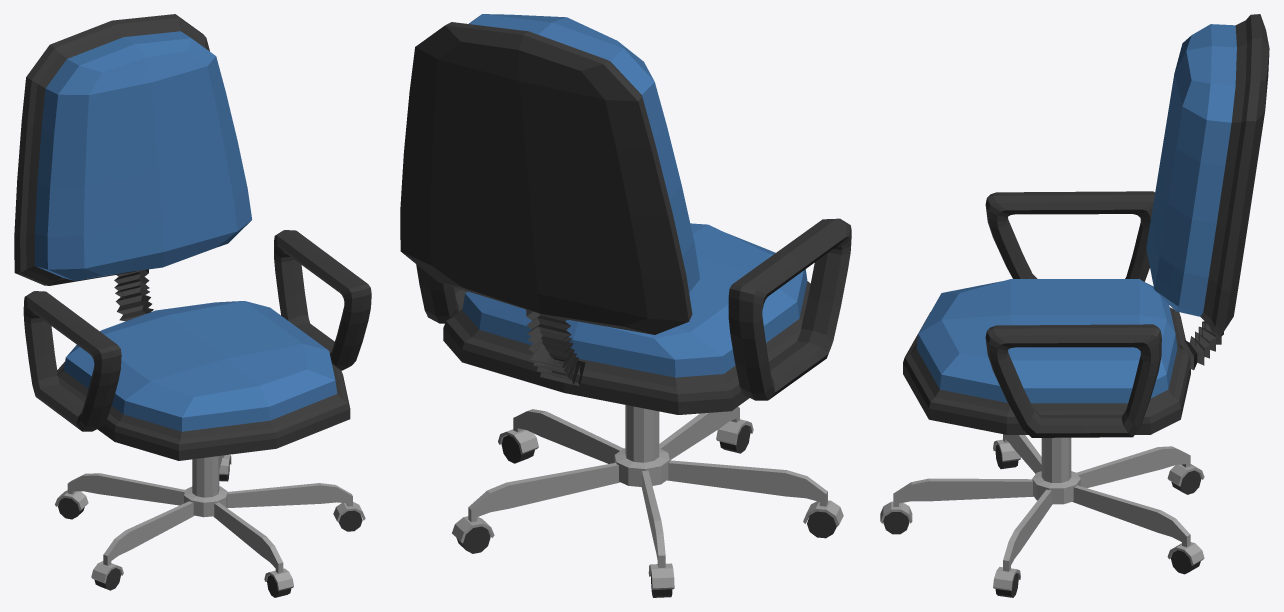
Rendered from OfficeChair.glb.
3 renders of one model, left to right at view 1: azimuth 30°, elevation 25°; view 2: azimuth 150°, elevation 25°; view 3: azimuth 270°, elevation 25°, orthographic. The views are drawn at different scales.
Parts seen in each view (by area): view 1: OfficeChair; view 2: OfficeChair; view 3: OfficeChair.
Part boxes in pixels (x1,y1,x2,y2): OfficeChair: (14, 14, 371, 597); OfficeChair: (400, 14, 851, 597); OfficeChair: (880, 14, 1269, 597).
Bounding box in the file's own units: 0.7217 × 1.13 × 0.8072.
